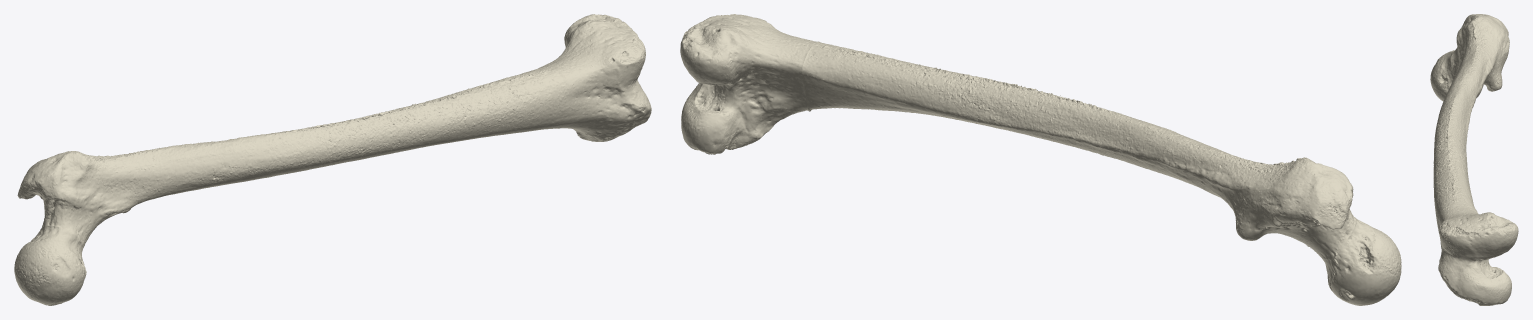
The model's file is femur.glb.
The picture shows the model from 3 angles, left to right: view 1: azimuth 30°, elevation 25°; view 2: azimuth 150°, elevation 25°; view 3: azimuth 270°, elevation 25°; orthographic projection. The views are drawn at different scales.
Visible parts, largest first — view 1: Femur; view 2: Femur; view 3: Femur.
Boxes of the visible parts, <box> form: Femur: <box>14,14,651,305</box>; Femur: <box>680,14,1401,305</box>; Femur: <box>1430,14,1518,305</box>.
Size of the model in its own units: 6.52 by 1.29 by 1.03.
